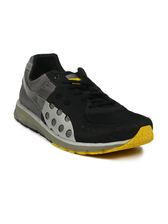shoes: (13, 48, 156, 160)
